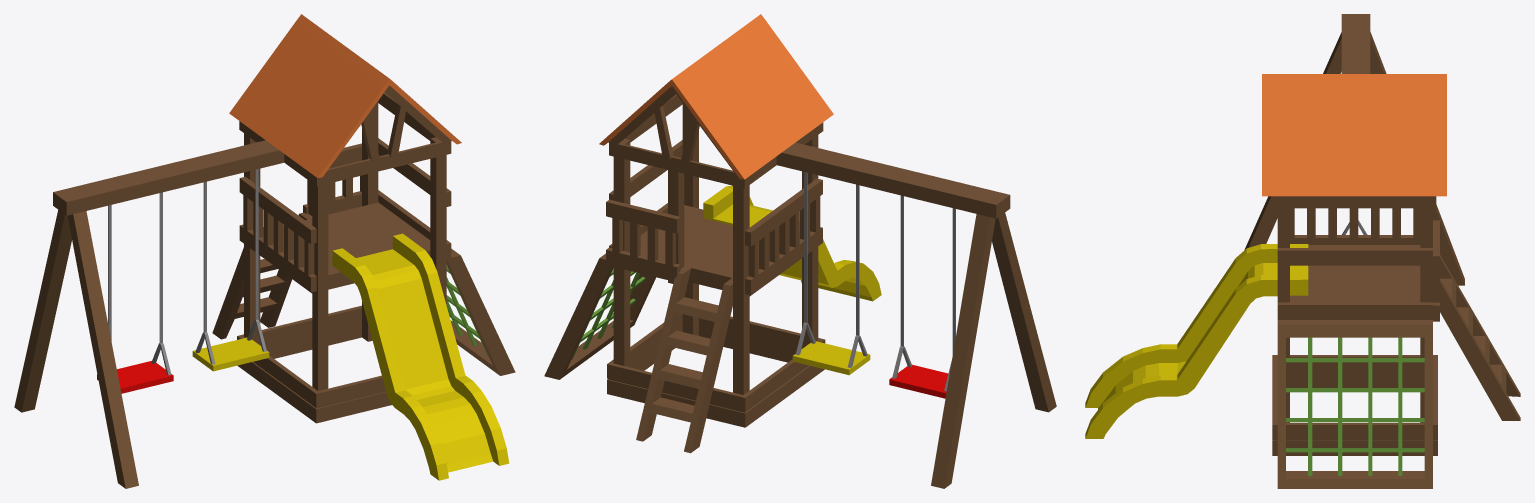
The model's file is D1_KIDS_GAMES6.fbx.
The picture shows the model from 3 angles, left to right: view 1: azimuth 30°, elevation 25°; view 2: azimuth 150°, elevation 25°; view 3: azimuth 270°, elevation 25°; orthographic projection. The views are drawn at different scales.
Parts seen in each view (by area): view 1: D1_KIDSGAMES_7; view 2: D1_KIDSGAMES_7; view 3: D1_KIDSGAMES_7.
Part boxes in pixels (left/top/right/bottom): D1_KIDSGAMES_7: left=14, top=14, right=515, bottom=488; D1_KIDSGAMES_7: left=544, top=14, right=1056, bottom=488; D1_KIDSGAMES_7: left=1085, top=14, right=1520, bottom=488.
Size of the model in its own units: 574 by 435 by 494.
